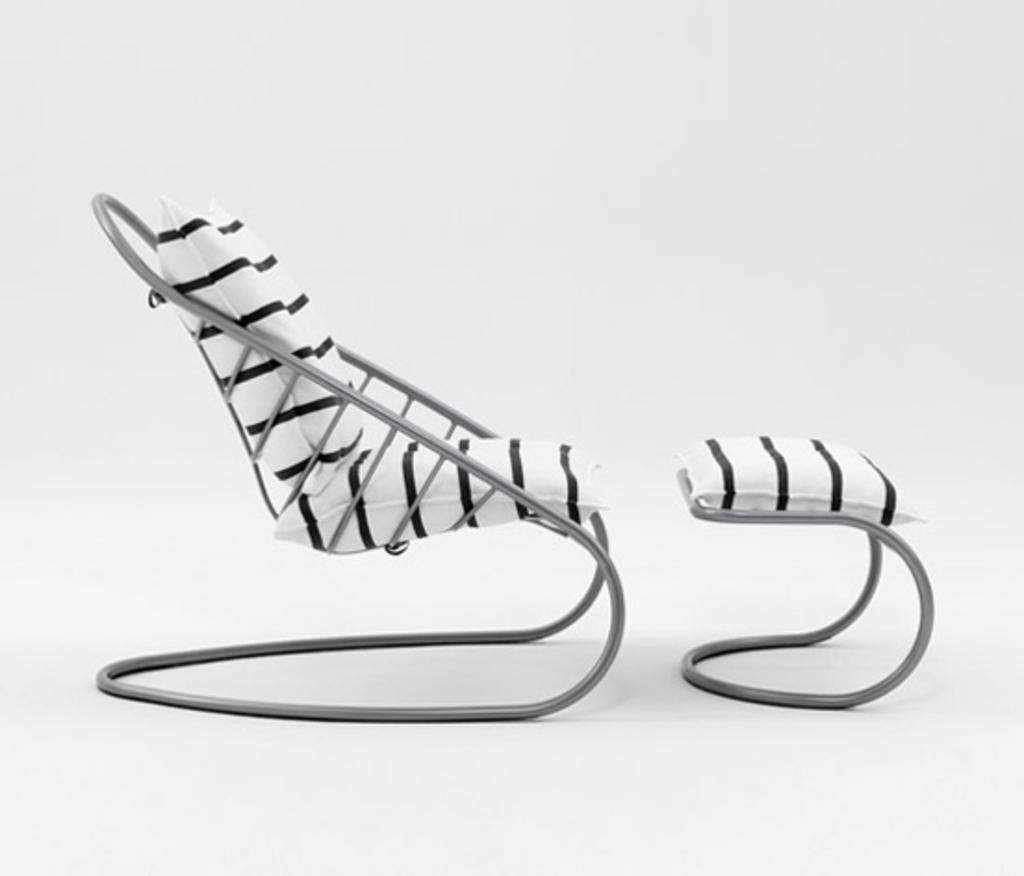Chair: (89, 193, 928, 716)
